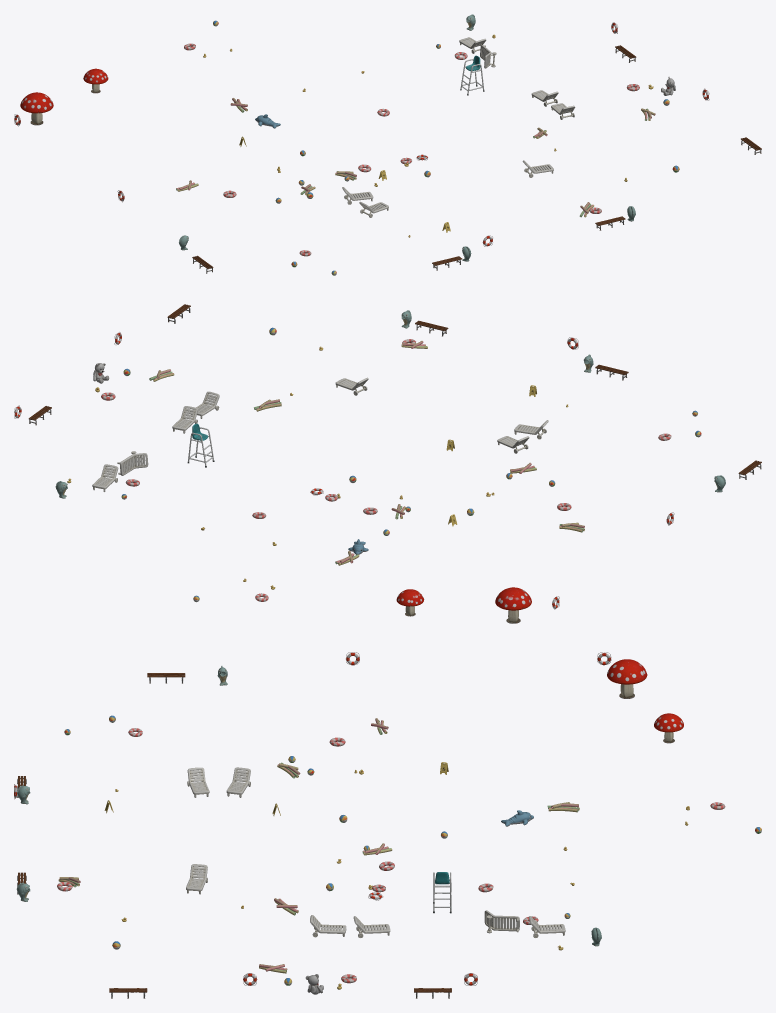
The model's file is sala_oggetti.glb.
The picture shows the model from 3 angles, top to bottom: view 1: azimuth 30°, elevation 25°; view 2: azimuth 150°, elevation 25°; view 3: azimuth 270°, elevation 25°; orthographic projection. The views are drawn at different scales.
Parts seen in each view (by area): view 1: ogg_fungo_fontana_27; view 2: ogg_fungo_fontana_27; view 3: ogg_fungo_fontana_27, ogg_lettino_plastica_23, ogg_fungo_fontana_28.
Part boxes in pixels (box(x1,y1,x2,y2)): ogg_fungo_fontana_27: box(20, 92, 53, 125); ogg_fungo_fontana_27: box(495, 587, 531, 623); ogg_fungo_fontana_27: box(607, 659, 647, 698); ogg_lettino_plastica_23: box(484, 910, 519, 933); ogg_fungo_fontana_28: box(654, 713, 683, 743).
Size of what is drawn, in the model's own units: 40 by 4.47 by 39.28.
13 materials, 13 textured.
